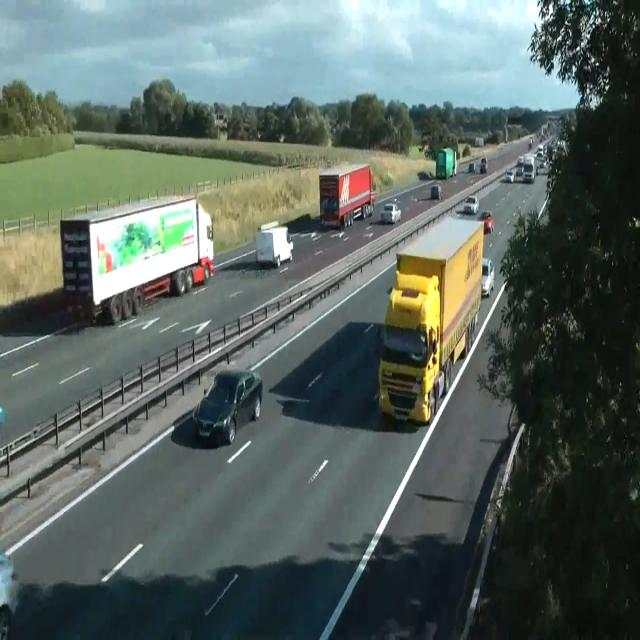bus: (481, 257, 495, 297), (380, 203, 401, 224), (479, 210, 493, 234), (463, 195, 479, 213), (431, 184, 442, 200), (536, 161, 548, 175), (353, 206, 363, 220), (514, 167, 523, 182), (506, 169, 514, 182), (468, 162, 476, 172), (517, 154, 523, 164)
jeep: (192, 367, 262, 445)
minibus: (378, 213, 484, 426), (60, 195, 214, 325), (318, 164, 376, 228), (256, 220, 294, 268), (435, 146, 456, 180), (521, 154, 535, 183), (468, 156, 488, 174), (480, 156, 487, 172), (474, 137, 484, 147)
